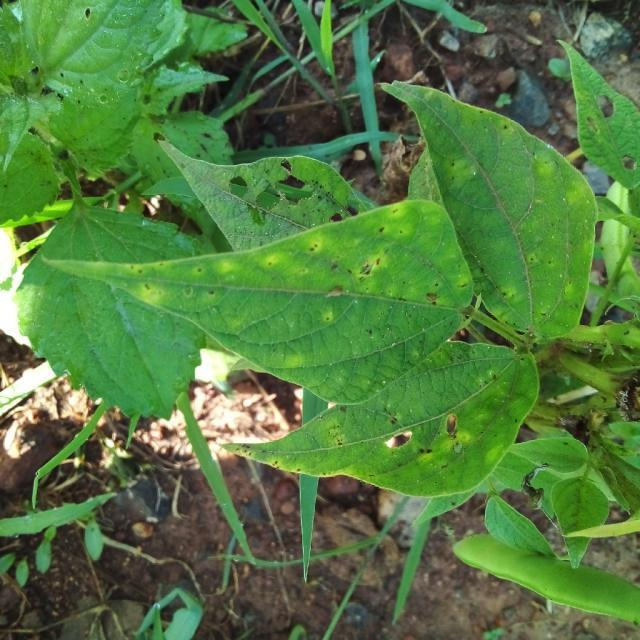mozaik: (115, 81, 505, 324)
